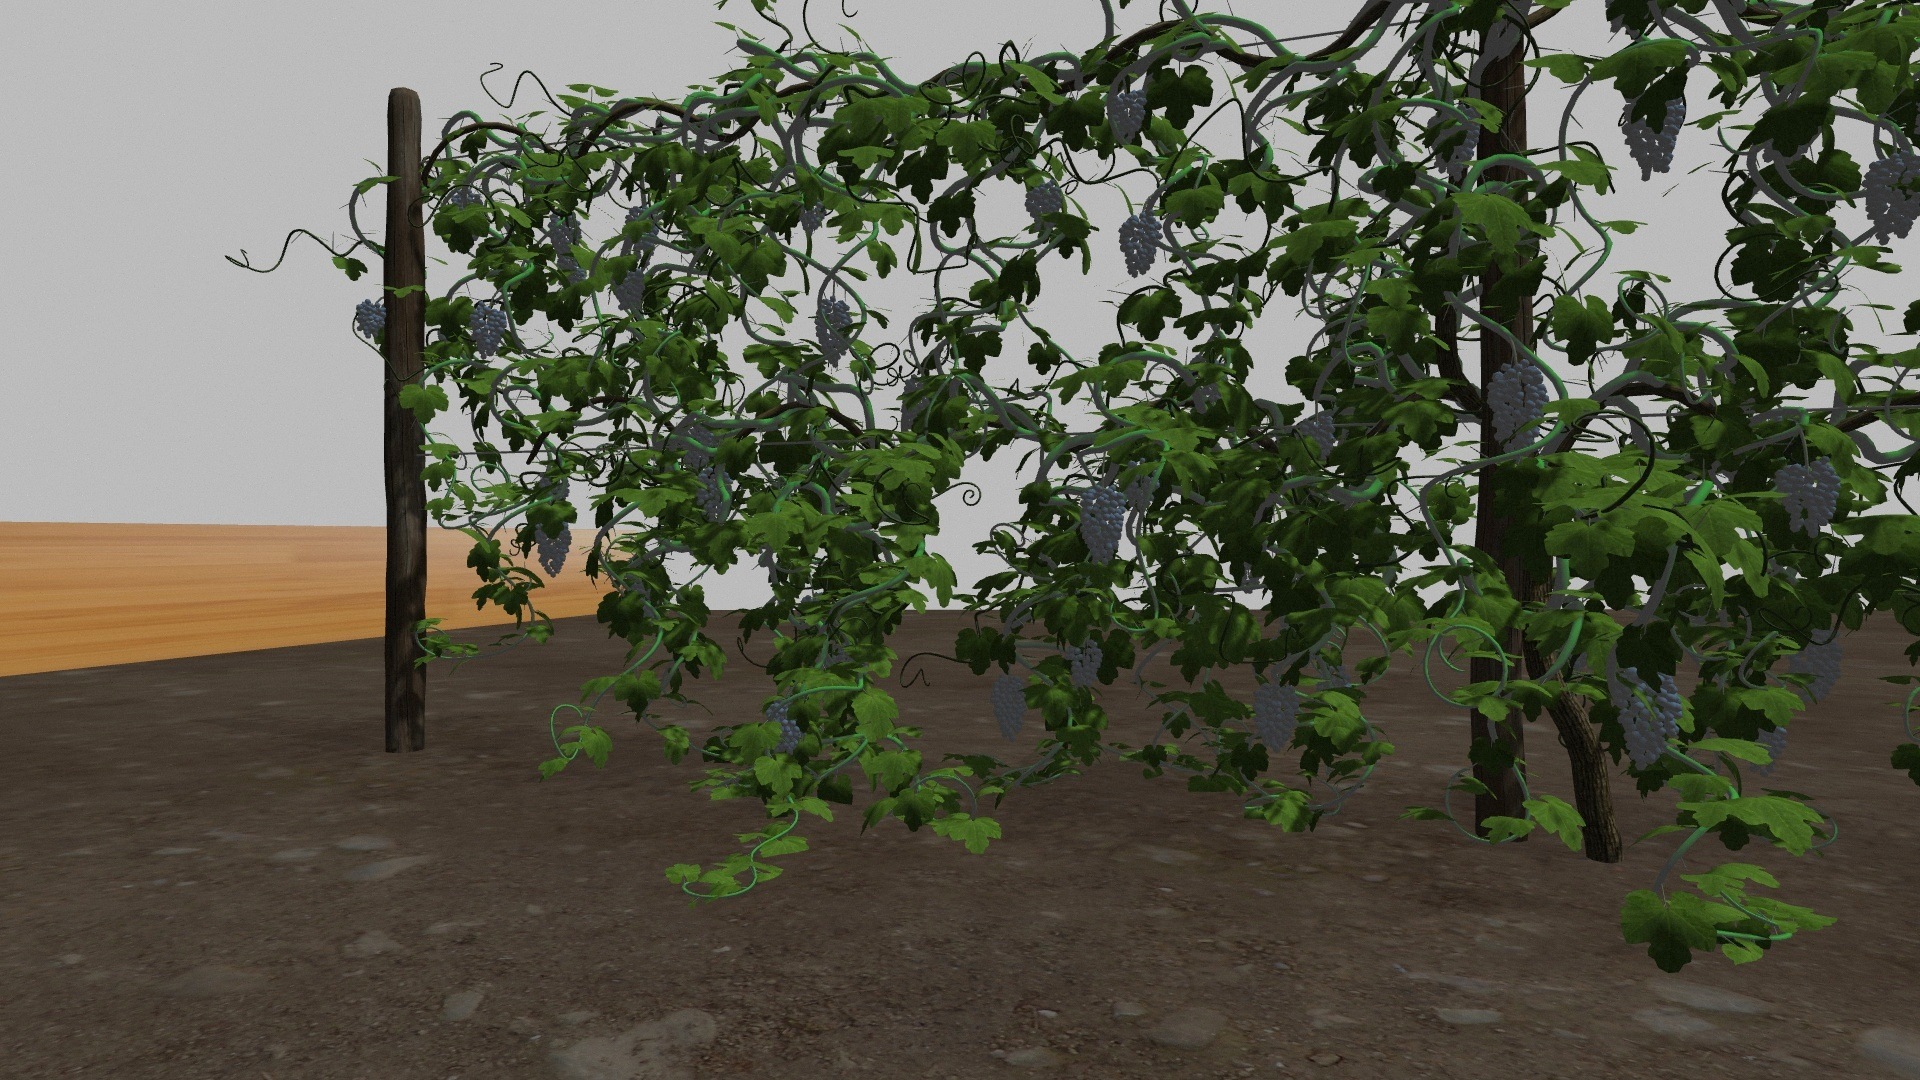grape: (1609, 665, 1687, 777), (1486, 361, 1551, 460), (1617, 94, 1687, 179), (1778, 458, 1841, 542), (1862, 152, 1917, 244), (1429, 108, 1484, 179), (1793, 632, 1844, 704), (1251, 680, 1300, 753), (1079, 485, 1124, 563), (1117, 214, 1163, 278), (814, 295, 855, 368), (990, 673, 1033, 741), (1106, 90, 1149, 148), (469, 301, 512, 359), (534, 522, 572, 579), (1063, 641, 1104, 694), (765, 699, 800, 756), (1124, 465, 1160, 514), (1023, 179, 1064, 223), (1299, 415, 1335, 463), (352, 297, 386, 342), (611, 268, 645, 313)
